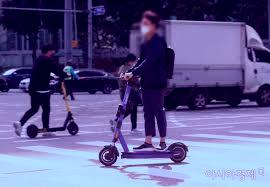nonhelmet: (98, 9, 190, 167), (12, 44, 79, 141)
